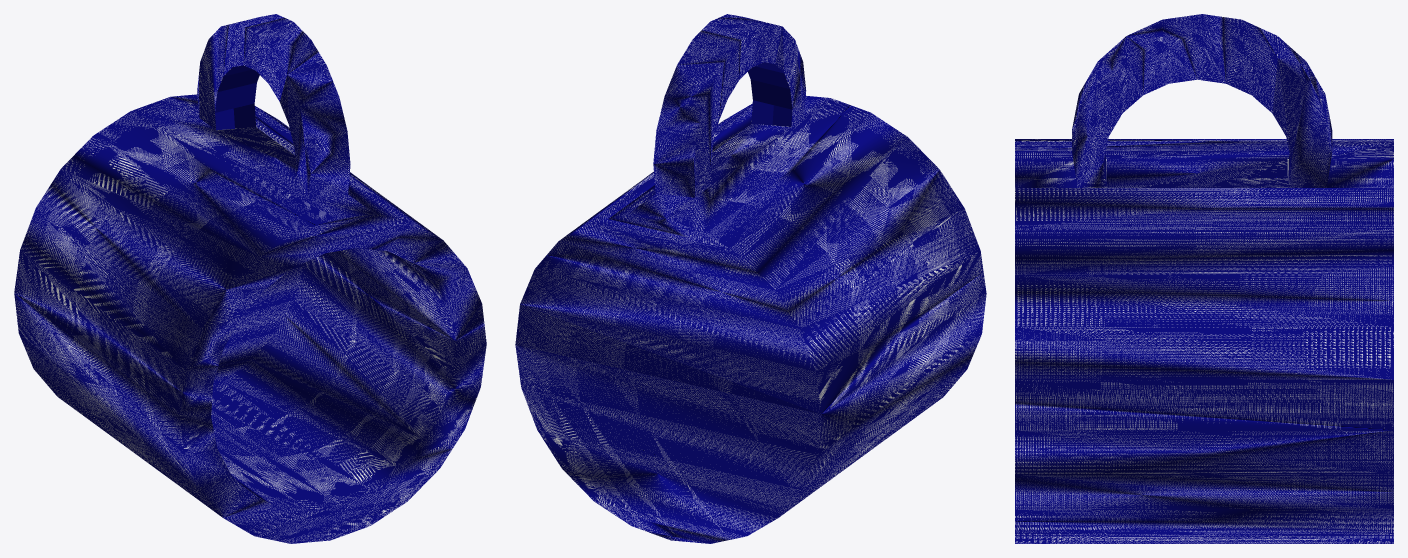
The model's file is model_align.obj.
The picture shows the model from 3 angles, left to right: view 1: azimuth 30°, elevation 25°; view 2: azimuth 150°, elevation 25°; view 3: azimuth 270°, elevation 25°; orthographic projection. The views are drawn at different scales.
Size of the model in its own units: 0.0832 by 0.116 by 0.0776.
